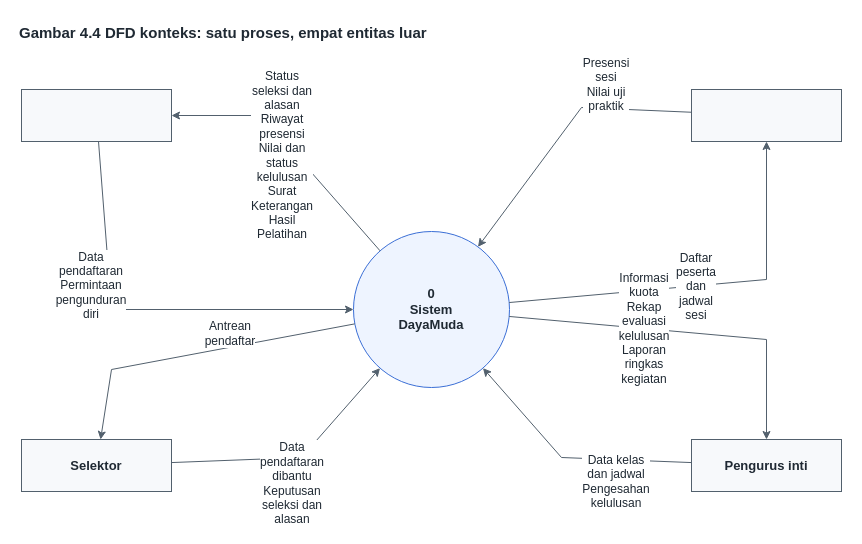
The diagram is 862 pixels wide and 544 high, and some of its shapes have lost their labels. The centre of each missing label's shape, as x and y in pixels:
"Instruktur" belongs at point 766,115.
"Pemuda" belongs at point 96,115.
